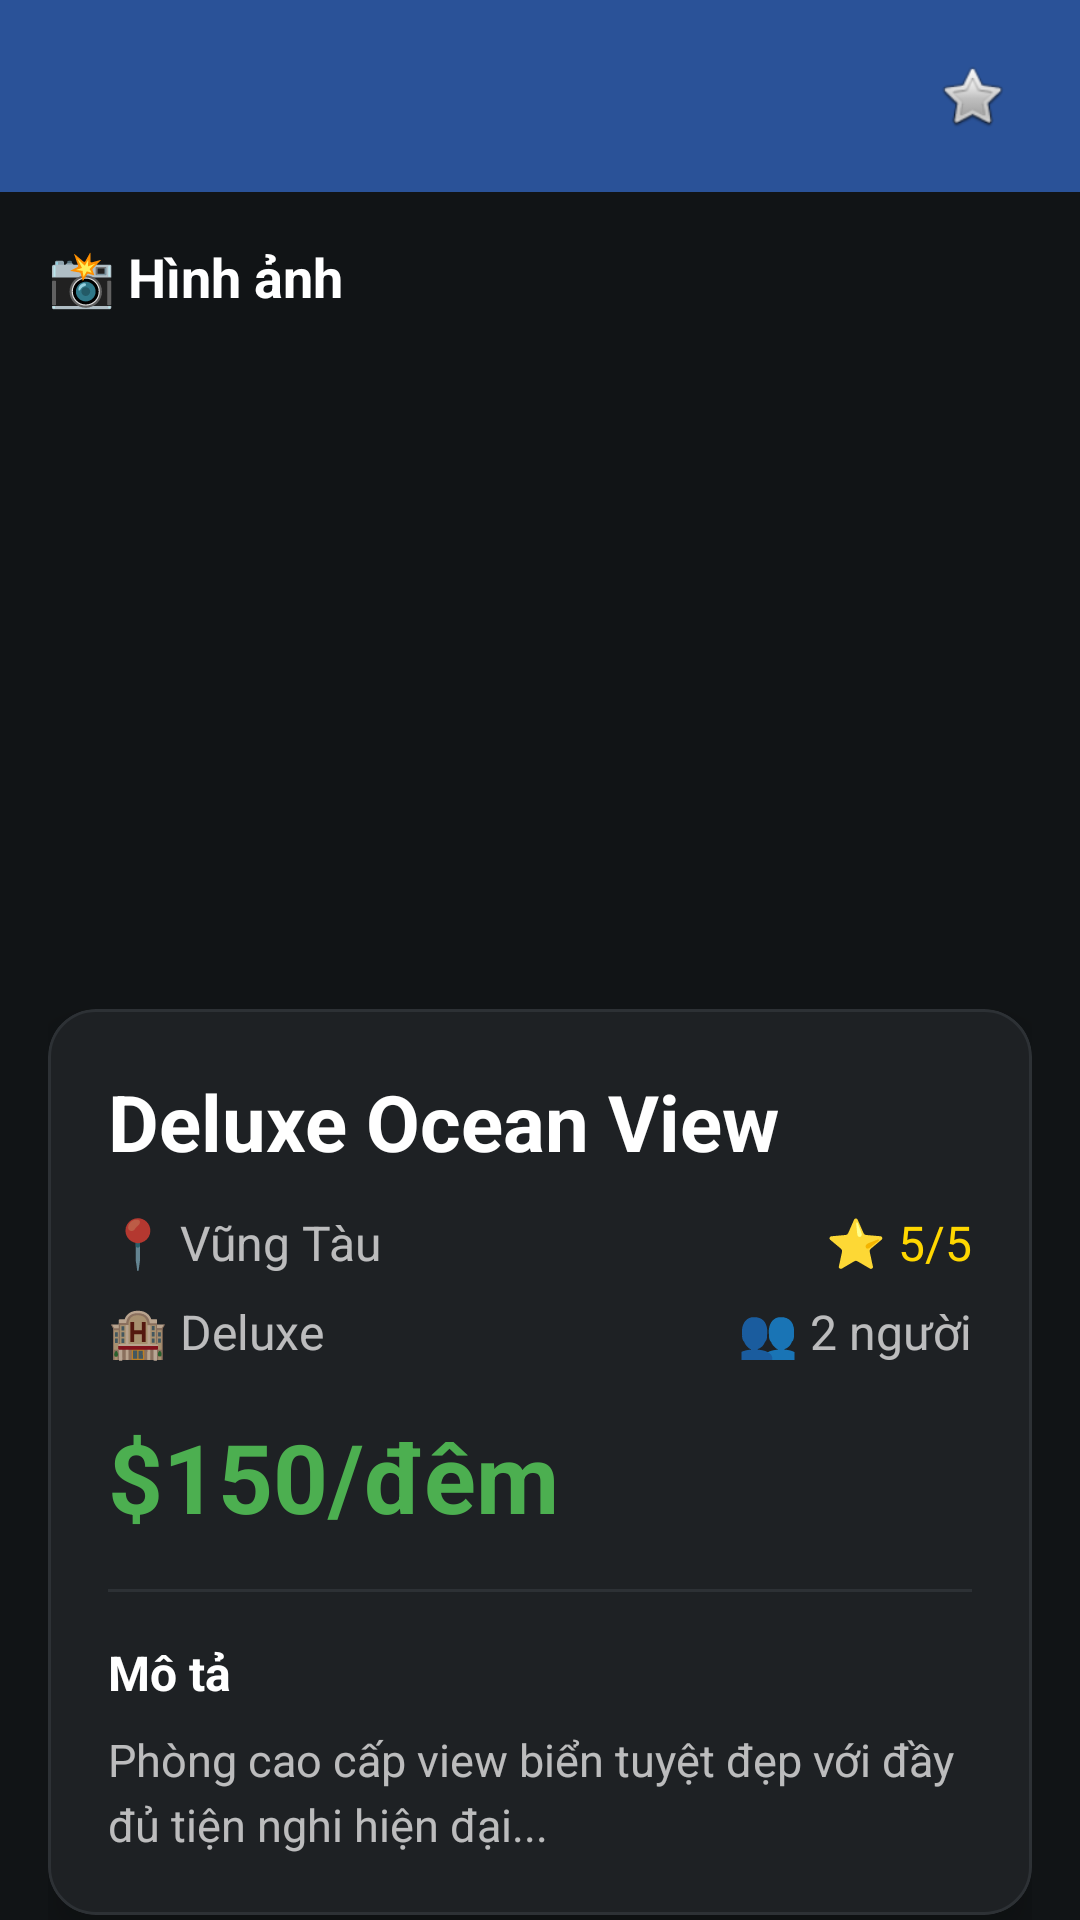

Locate icon controls on the screen. Image size 1080 x 1920, boxes as box=[x1, y1, x2, y2].
star off: box=[943, 69, 1002, 125]
